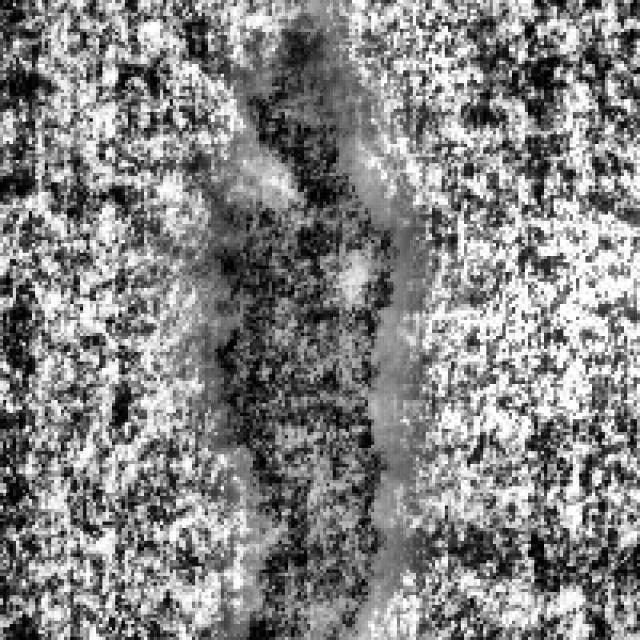Scratches: (189, 176, 397, 637), (243, 9, 362, 294)
